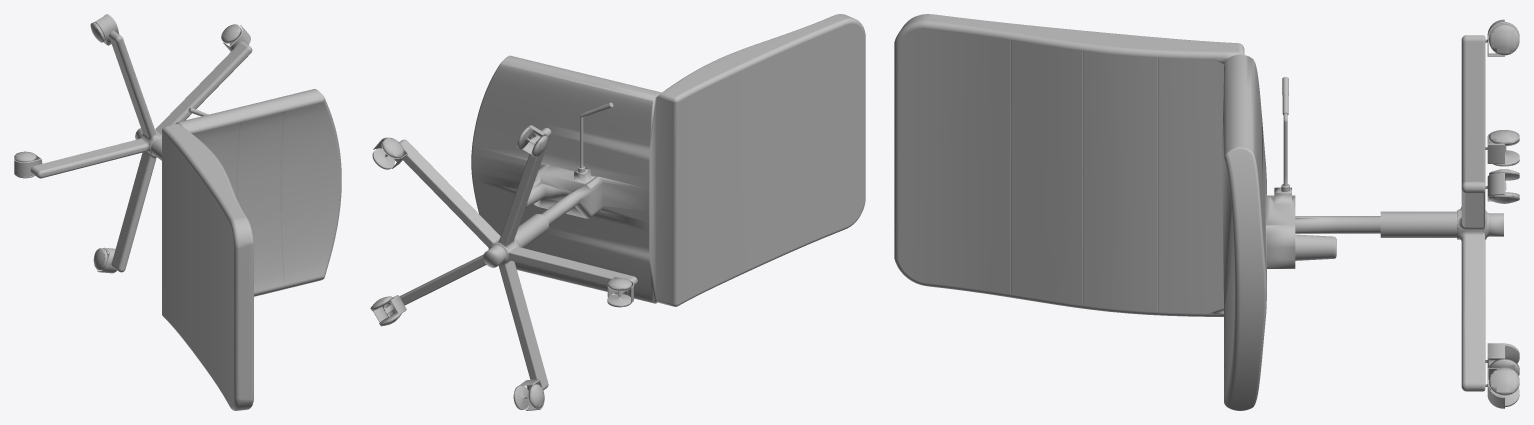
The model's file is chair_white.dae.
3 renders of one model, left to right at view 1: azimuth 30°, elevation 25°; view 2: azimuth 150°, elevation 25°; view 3: azimuth 270°, elevation 25°, orthographic. The views are drawn at different scales.
Visible parts, largest first — view 1: transform1; view 2: transform1; view 3: transform1.
Part boxes in pixels (left/top/right/bottom): transform1: left=14, top=14, right=341, bottom=410; transform1: left=370, top=14, right=865, bottom=410; transform1: left=894, top=14, right=1519, bottom=410.
Size of the model in its own units: 0.6456 by 0.6765 by 1.07.
Materials: 1 (1 with a texture image).
